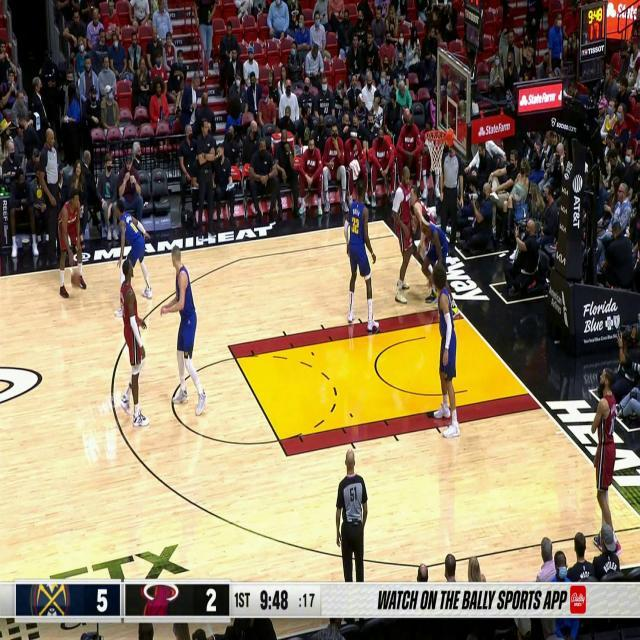rim: (70, 269, 80, 288)
